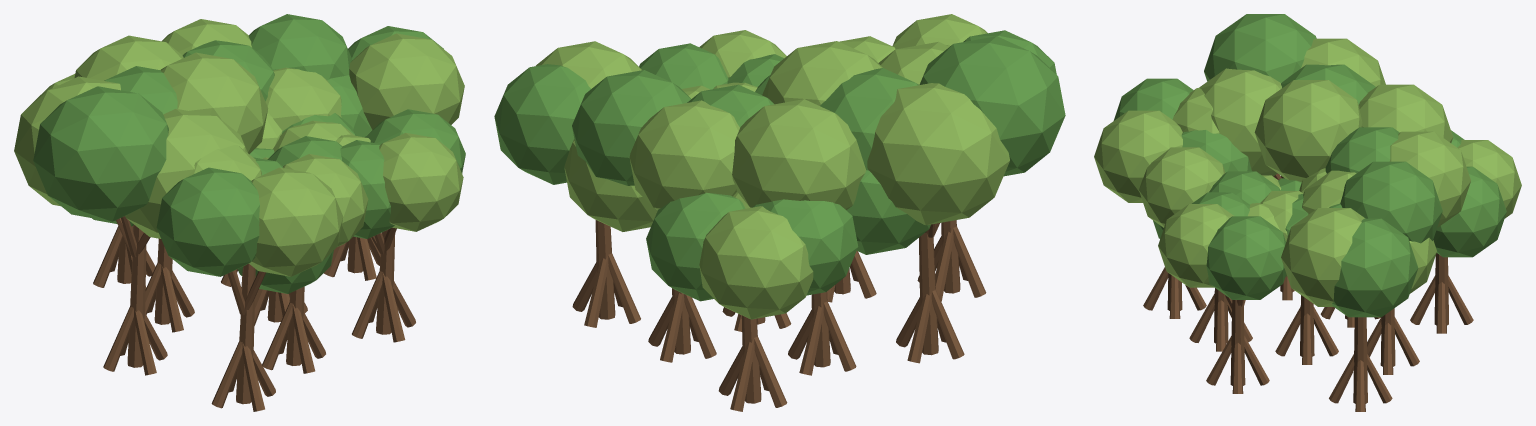
The model's file is FEATURE_JUNGLE_v00.fbx.
3 renders of one model, left to right at view 1: azimuth 30°, elevation 25°; view 2: azimuth 150°, elevation 25°; view 3: azimuth 270°, elevation 25°, orthographic. The views are drawn at different scales.
Parts seen in each view (by area): view 1: Broadleaf_crown.126, Broadleaf_crown.138, Broadleaf_crown.143, Broadleaf_crown.139, Broadleaf_crown.131, Broadleaf_crown.115, Broadleaf_crown.127, Broadleaf_crown.120, Broadleaf_crown.123, Broadleaf_crown.125, Broadleaf_crown.119, Broadleaf_crown.113 (+37 smaller); view 2: Broadleaf_crown.125, Broadleaf_crown.113, Broadleaf_crown.126, Broadleaf_crown.133, Broadleaf_crown.121, Broadleaf_crown.140, Broadleaf_crown.120, Broadleaf_crown.132, Broadleaf_crown.134, Broadleaf_crown.115, Broadleaf_crown.141, Broadleaf_crown.124 (+31 smaller); view 3: Broadleaf_crown.115, Broadleaf_crown.140, Broadleaf_crown.120, Broadleaf_crown.128, Broadleaf_crown.126, Broadleaf_crown.143, Broadleaf_crown.139, Broadleaf_crown.127, Broadleaf_crown.119, Broadleaf_crown.131, Broadleaf_crown.132, Broadleaf_crown.121 (+38 smaller).
Boxes of the visible parts, x1=… form: Broadleaf_crown.126: x1=33, y1=86, x2=168, y2=221; Broadleaf_crown.138: x1=156, y1=167, x2=259, y2=276; Broadleaf_crown.143: x1=349, y1=33, x2=464, y2=129; Broadleaf_crown.139: x1=249, y1=167, x2=343, y2=276; Broadleaf_crown.131: x1=379, y1=132, x2=463, y2=231; Broadleaf_crown.115: x1=160, y1=52, x2=268, y2=154; Broadleaf_crown.127: x1=125, y1=108, x2=247, y2=238; Broadleaf_crown.120: x1=248, y1=14, x2=351, y2=80; Broadleaf_crown.123: x1=265, y1=67, x2=341, y2=131; Broadleaf_crown.125: x1=14, y1=76, x2=120, y2=206; Broadleaf_crown.119: x1=283, y1=154, x2=368, y2=246; Broadleaf_crown.113: x1=74, y1=35, x2=183, y2=80; Broadleaf_crown.125: x1=867, y1=83, x2=1009, y2=225; Broadleaf_crown.113: x1=732, y1=99, x2=865, y2=209; Broadleaf_crown.126: x1=919, y1=36, x2=1065, y2=176; Broadleaf_crown.133: x1=699, y1=206, x2=813, y2=319; Broadleaf_crown.121: x1=629, y1=100, x2=739, y2=209; Broadleaf_crown.140: x1=494, y1=64, x2=590, y2=184; Broadleaf_crown.120: x1=572, y1=70, x2=691, y2=185; Broadleaf_crown.132: x1=646, y1=192, x2=745, y2=301; Broadleaf_crown.134: x1=752, y1=199, x2=858, y2=295; Broadleaf_crown.115: x1=762, y1=41, x2=882, y2=105; Broadleaf_crown.141: x1=564, y1=139, x2=657, y2=231; Broadleaf_crown.124: x1=820, y1=68, x2=918, y2=170; Broadleaf_crown.115: x1=1254, y1=80, x2=1362, y2=181; Broadleaf_crown.140: x1=1332, y1=218, x2=1418, y2=317; Broadleaf_crown.120: x1=1340, y1=161, x2=1442, y2=243; Broadleaf_crown.128: x1=1206, y1=216, x2=1286, y2=299; Broadleaf_crown.126: x1=1204, y1=14, x2=1316, y2=82; Broadleaf_crown.143: x1=1281, y1=208, x2=1365, y2=306; Broadleaf_crown.139: x1=1094, y1=110, x2=1182, y2=202; Broadleaf_crown.127: x1=1199, y1=68, x2=1281, y2=176; Broadleaf_crown.119: x1=1139, y1=147, x2=1225, y2=227; Broadleaf_crown.131: x1=1158, y1=204, x2=1234, y2=287; Broadleaf_crown.132: x1=1433, y1=166, x2=1506, y2=257; Broadleaf_crown.121: x1=1389, y1=131, x2=1470, y2=227.
Bounding box in the file's own units: 154 × 93.71 × 143.
